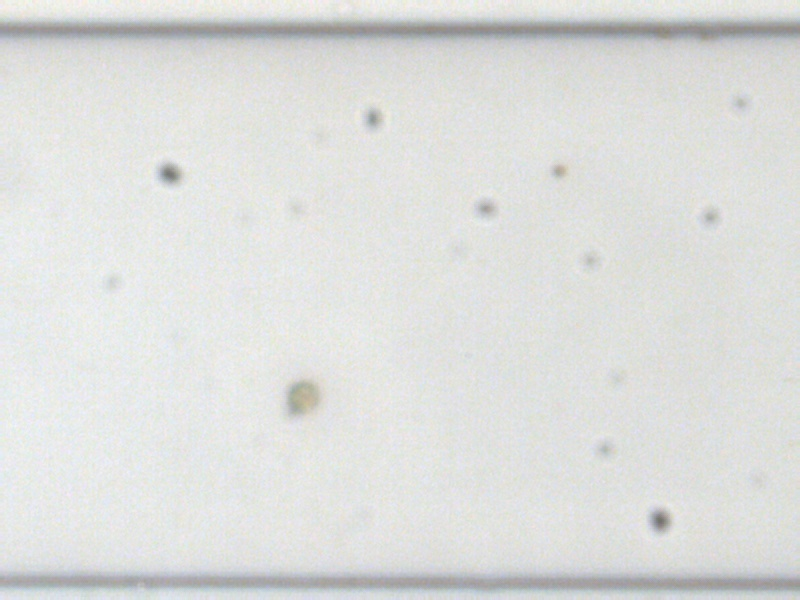Chlorella: (551, 161, 566, 177)
Dunaliella salina: (285, 379, 314, 414)
